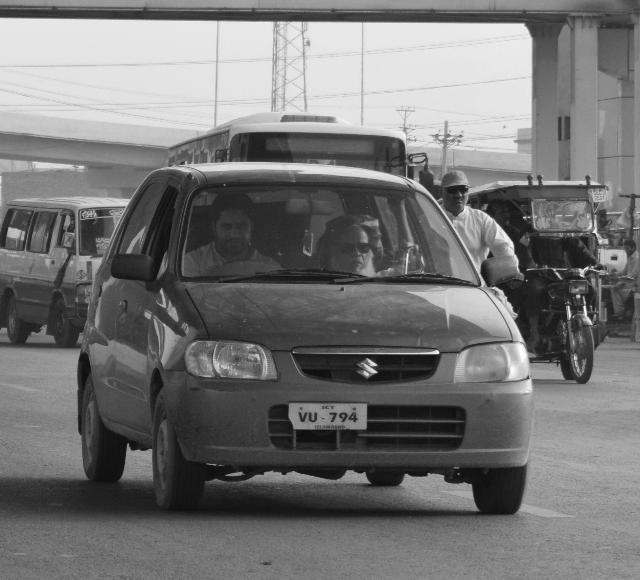Number: (295, 409, 361, 425)
